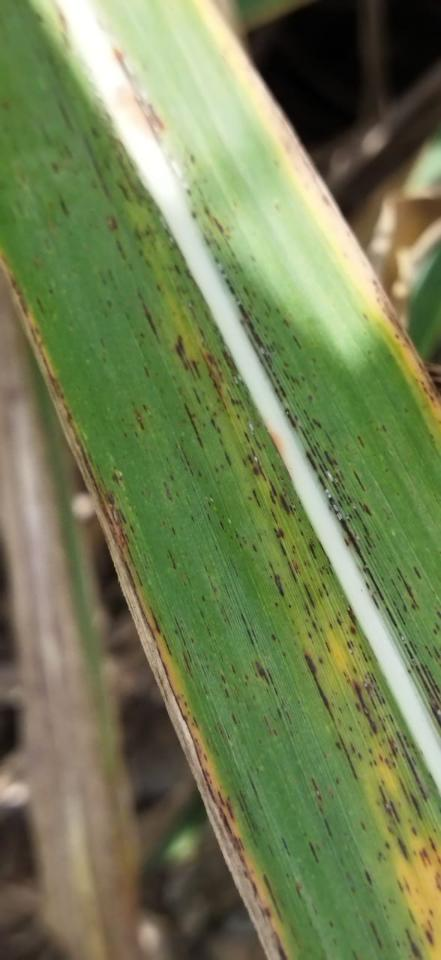Rust: (32, 85, 440, 959), (0, 254, 295, 959), (183, 153, 440, 728), (370, 272, 440, 411), (110, 45, 172, 150), (236, 767, 293, 859), (246, 653, 297, 740), (219, 662, 250, 731), (170, 611, 197, 681), (238, 610, 260, 649), (110, 467, 129, 491), (165, 548, 179, 574)
Yellow: (159, 289, 440, 959), (131, 586, 296, 959), (360, 302, 440, 448)
